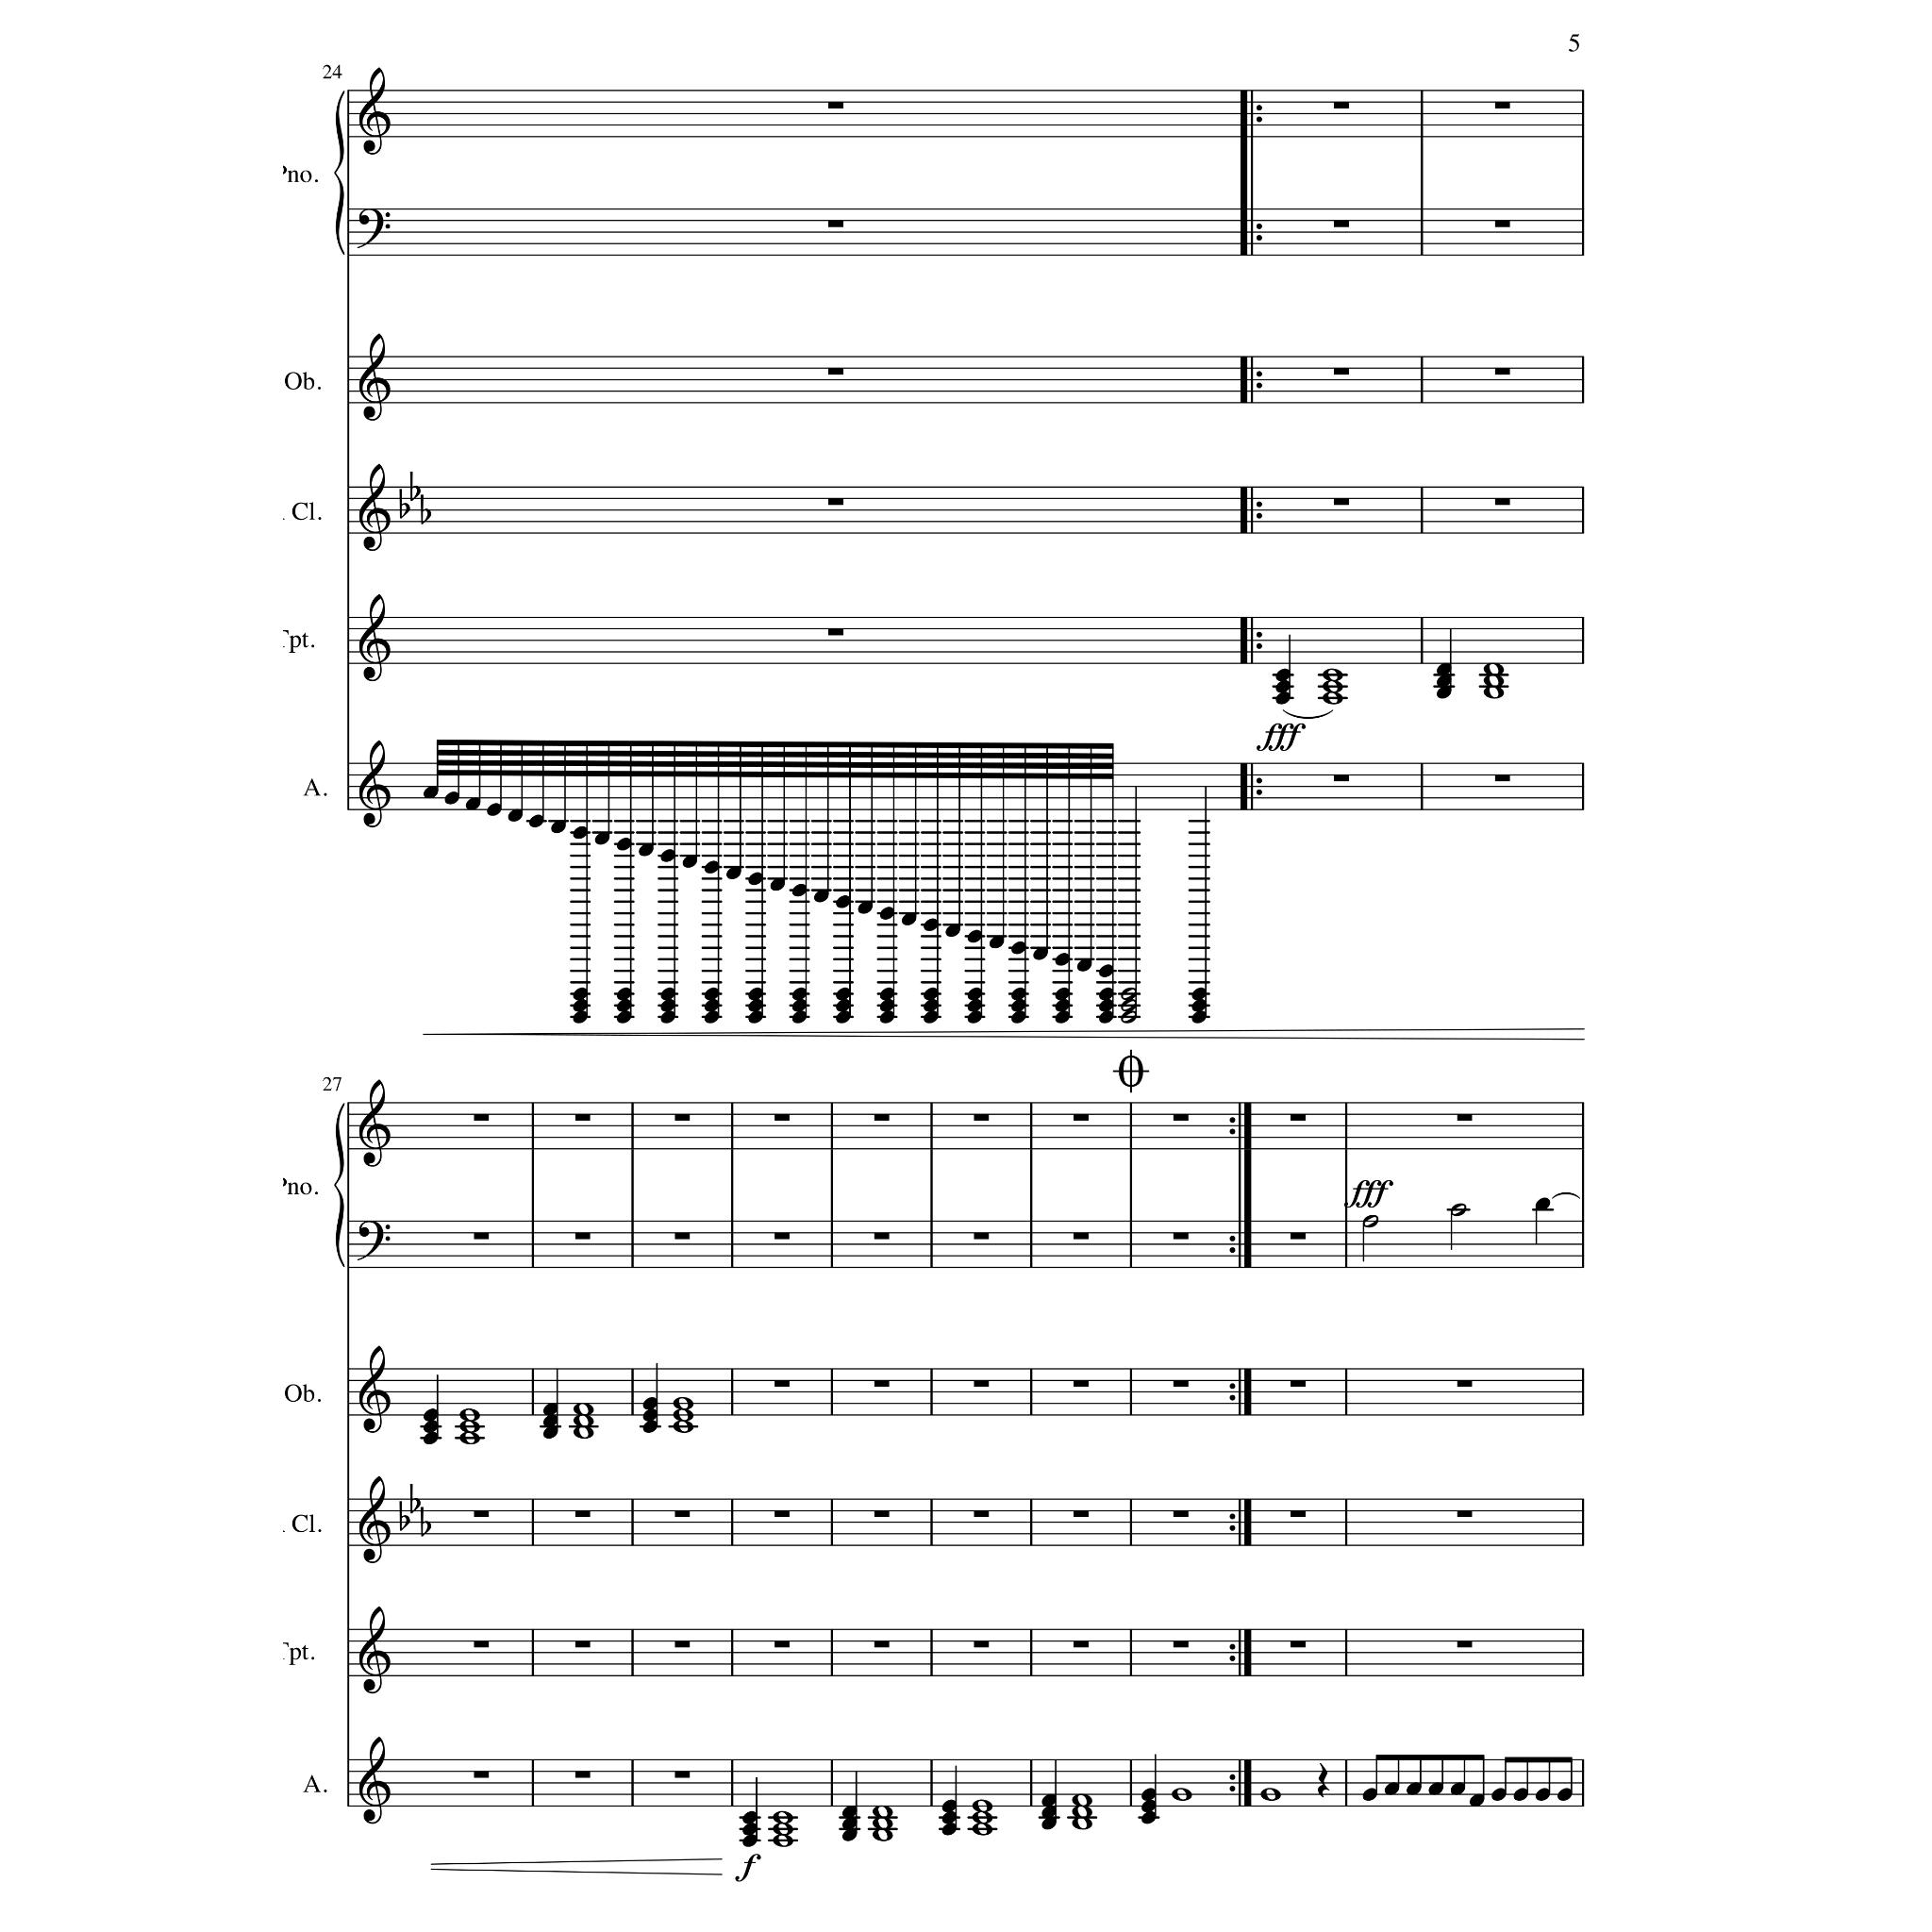brace: (333, 90, 345, 257), (333, 1102, 345, 1267)
fClef: (357, 209, 391, 249), (357, 1221, 391, 1261)
gClef: (359, 593, 391, 683), (359, 740, 391, 828), (359, 464, 391, 552), (359, 333, 391, 421), (359, 67, 391, 156), (359, 1079, 391, 1168), (359, 1345, 391, 1433), (359, 1476, 391, 1564), (359, 1606, 391, 1695), (359, 1736, 391, 1824)
noteheadBlack: (1384, 1782, 1401, 1796), (1054, 998, 1070, 1012), (1099, 1010, 1115, 1024), (1099, 998, 1115, 1012), (1099, 987, 1115, 1001), (1076, 959, 1092, 973), (1054, 987, 1070, 1001), (1191, 987, 1207, 1001), (879, 906, 895, 920), (1276, 669, 1292, 683), (1276, 679, 1292, 694), (1276, 692, 1292, 706), (1191, 998, 1207, 1012), (1191, 1010, 1207, 1024), (924, 998, 939, 1012), (966, 1010, 982, 1024), (924, 918, 939, 932), (924, 987, 939, 1001), (966, 998, 982, 1012), (924, 1010, 939, 1024), (1010, 1010, 1026, 1024), (1033, 947, 1049, 961), (1010, 941, 1026, 955), (1010, 987, 1026, 1001), (1010, 998, 1026, 1012), (1054, 1010, 1070, 1024), (966, 929, 982, 943), (966, 987, 982, 1001), (1437, 663, 1453, 678), (1437, 674, 1453, 688), (508, 809, 524, 823), (487, 801, 502, 816), (444, 791, 460, 805), (423, 786, 439, 800), (571, 1010, 587, 1024), (594, 832, 610, 846), (571, 826, 587, 840), (571, 987, 587, 1001), (571, 998, 587, 1012), (527, 814, 543, 828), (879, 998, 895, 1012), (791, 987, 807, 1001), (791, 998, 807, 1012), (791, 1010, 807, 1024), (770, 878, 786, 892), (748, 872, 764, 886), (748, 987, 764, 1001), (748, 998, 764, 1012), (748, 1010, 764, 1024), (879, 987, 895, 1001), (879, 1010, 895, 1024), (856, 901, 872, 915), (835, 987, 851, 1001), (835, 998, 851, 1012), (835, 1010, 851, 1024), (681, 855, 697, 869), (616, 1010, 632, 1024), (660, 987, 676, 1001), (660, 998, 676, 1012), (660, 1010, 676, 1024), (616, 837, 632, 851), (704, 998, 720, 1012), (704, 1010, 720, 1024), (704, 987, 720, 1001), (616, 987, 632, 1001), (616, 998, 632, 1012), (1362, 1787, 1378, 1801), (1141, 1787, 1157, 1801), (1491, 1787, 1507, 1801), (1513, 1787, 1529, 1801), (1407, 1782, 1422, 1796), (1428, 1782, 1444, 1796), (1449, 1782, 1465, 1796), (1534, 1198, 1550, 1212), (1534, 1787, 1550, 1801), (1557, 1787, 1573, 1801), (642, 1419, 658, 1433), (642, 1408, 658, 1422), (741, 1822, 757, 1836), (423, 1431, 439, 1445), (423, 1419, 439, 1433), (423, 1408, 439, 1422), (541, 1414, 557, 1428), (541, 1403, 557, 1417), (941, 1822, 957, 1836), (840, 1828, 856, 1842), (901, 913, 918, 925), (1099, 964, 1115, 977), (1054, 954, 1070, 966), (945, 925, 961, 938), (989, 936, 1005, 948), (1437, 686, 1453, 699), (465, 798, 481, 810), (550, 821, 566, 833), (791, 885, 807, 897), (725, 867, 741, 879), (835, 895, 851, 908), (812, 890, 828, 902), (639, 844, 655, 856), (660, 849, 676, 862), (704, 862, 720, 874), (1141, 1812, 1157, 1824), (1141, 1799, 1157, 1812), (1468, 1794, 1484, 1806), (642, 1398, 658, 1410), (741, 1835, 757, 1847), (741, 1812, 757, 1824), (541, 1426, 557, 1438), (941, 1812, 957, 1824), (941, 1799, 957, 1812), (1040, 1817, 1056, 1829), (1040, 1806, 1056, 1819), (1040, 1794, 1056, 1806), (840, 1817, 856, 1829), (840, 1806, 856, 1819)
noteheadHalf: (1120, 987, 1138, 1001), (1120, 1010, 1138, 1024), (1120, 1000, 1138, 1012), (1362, 1215, 1380, 1228), (1451, 1203, 1467, 1215)
noteheadWhole: (1322, 669, 1345, 683), (1322, 679, 1345, 694), (1322, 692, 1345, 706), (1070, 1805, 1093, 1819), (1070, 1817, 1093, 1831), (571, 1403, 594, 1417), (571, 1414, 594, 1428), (458, 1431, 481, 1445), (458, 1419, 481, 1433), (458, 1408, 481, 1422), (870, 1817, 893, 1831), (870, 1805, 893, 1819), (870, 1828, 893, 1842), (1483, 663, 1504, 678), (1483, 674, 1504, 688), (1260, 1787, 1281, 1801), (1171, 1787, 1192, 1801), (672, 1419, 694, 1433), (672, 1408, 694, 1422), (971, 1822, 993, 1836), (971, 1799, 993, 1813), (771, 1822, 793, 1836), (1070, 1794, 1093, 1806), (571, 1426, 594, 1438), (1483, 686, 1504, 699), (672, 1398, 694, 1410), (971, 1812, 993, 1824), (771, 1812, 793, 1824), (771, 1835, 793, 1847)
restQuarter: (1318, 1762, 1330, 1798)
restWhole: (573, 1640, 591, 1649), (573, 1231, 591, 1240), (872, 1640, 890, 1649), (872, 1231, 890, 1240), (773, 1640, 791, 1649), (773, 1231, 791, 1240), (1074, 1231, 1090, 1240), (1173, 1231, 1189, 1240), (1074, 1640, 1090, 1649), (973, 1640, 989, 1649), (1290, 1640, 1306, 1649), (973, 1231, 989, 1240), (1290, 1231, 1306, 1240), (1173, 1640, 1189, 1649), (674, 1640, 690, 1649), (674, 1231, 690, 1240), (472, 1231, 488, 1240), (472, 1640, 488, 1649), (1456, 1640, 1472, 1649), (573, 1115, 591, 1122), (773, 1115, 791, 1122), (573, 1771, 591, 1778), (573, 1511, 591, 1518), (872, 1511, 890, 1518), (872, 1380, 890, 1387), (872, 1115, 890, 1122), (773, 1511, 791, 1518), (773, 1380, 791, 1387), (1334, 103, 1350, 110), (1334, 221, 1350, 228), (1334, 368, 1350, 375), (1334, 499, 1350, 506), (1334, 775, 1350, 782), (1493, 775, 1509, 782), (1493, 499, 1509, 506), (1493, 368, 1509, 375), (1493, 221, 1509, 228), (1493, 103, 1509, 110), (828, 628, 844, 635), (828, 499, 844, 506), (828, 368, 844, 375), (828, 221, 844, 228), (828, 103, 844, 110), (1173, 1115, 1189, 1122), (1074, 1511, 1090, 1518), (1074, 1380, 1090, 1387), (1074, 1115, 1090, 1122), (973, 1511, 989, 1518), (973, 1380, 989, 1387), (1290, 1511, 1306, 1518), (1290, 1380, 1306, 1387), (1290, 1115, 1306, 1122), (1173, 1511, 1189, 1518), (1173, 1380, 1189, 1387), (674, 1115, 690, 1122), (674, 1771, 690, 1778), (674, 1511, 690, 1518), (973, 1115, 989, 1122), (472, 1511, 488, 1518), (472, 1771, 488, 1778), (1456, 1115, 1472, 1122), (1456, 1380, 1472, 1387), (1456, 1511, 1472, 1518), (472, 1115, 488, 1122)
